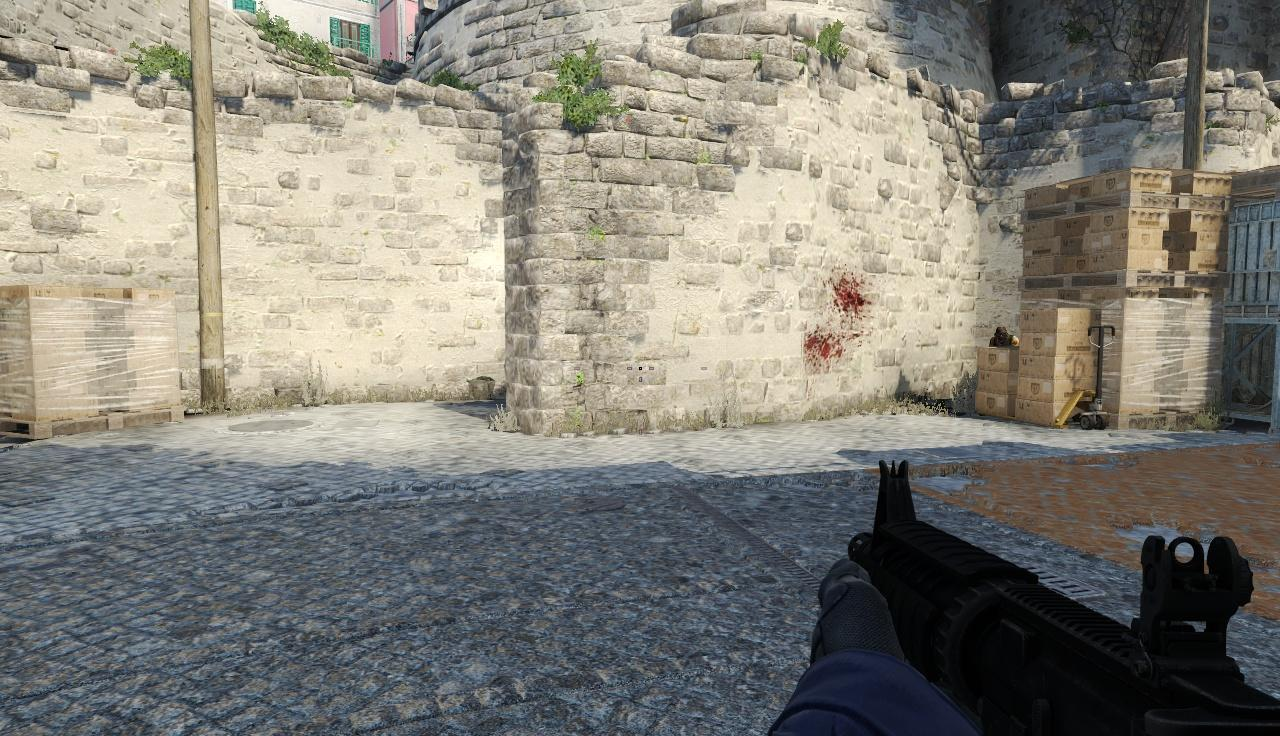rifle: (829, 466, 1280, 736)
tt: (989, 326, 1019, 346)
tthead: (995, 327, 1008, 341)
